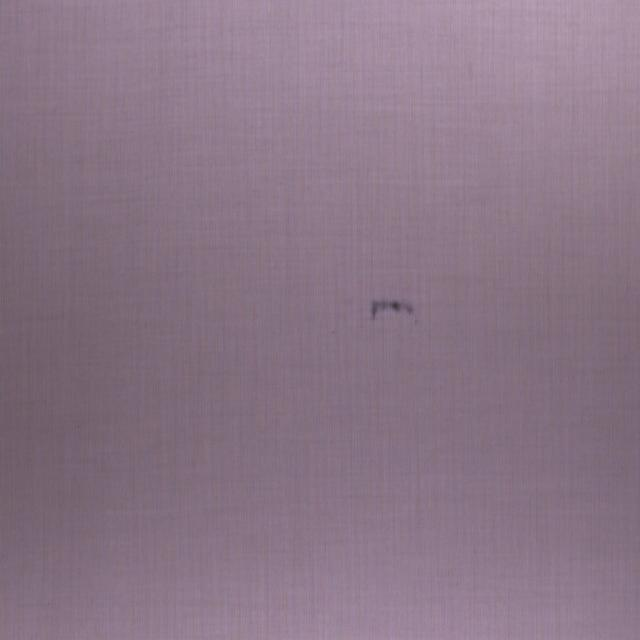dirty: (371, 299, 413, 320)
